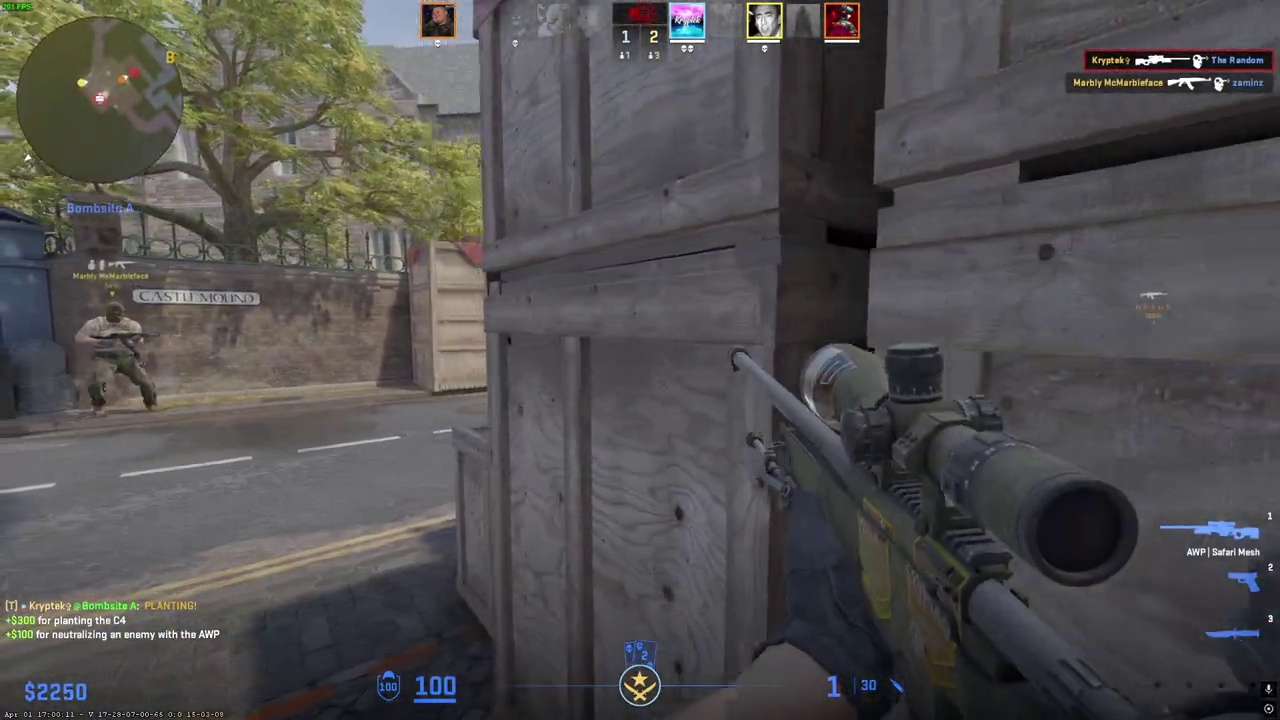Terrorist: (75, 301, 158, 417)
